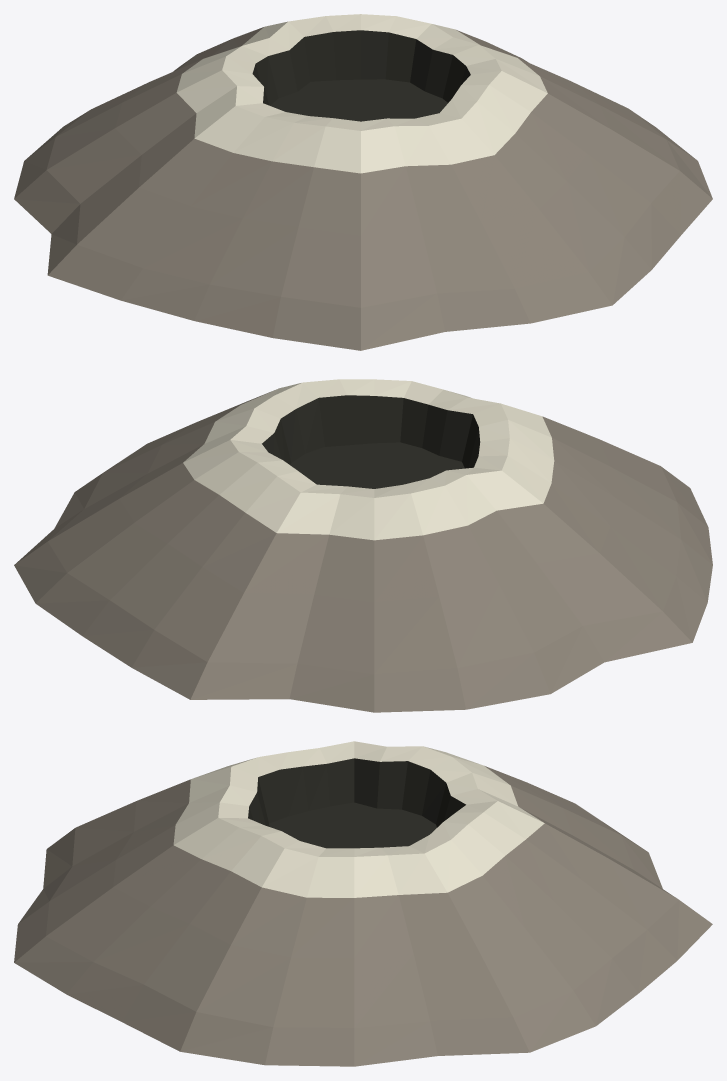
Rendered from HotAirGeyserCollision.fbx.
3 views of the same model, one above another, from view 1: azimuth 30°, elevation 25°; view 2: azimuth 150°, elevation 25°; view 3: azimuth 270°, elevation 25° (orthographic). The views are drawn at different scales.
Parts seen in each view (by area): view 1: HotAirGeyserCollision; view 2: HotAirGeyserCollision; view 3: HotAirGeyserCollision.
Part boxes in pixels (<box>): HotAirGeyserCollision: <box>14,14,712,350</box>; HotAirGeyserCollision: <box>14,379,712,712</box>; HotAirGeyserCollision: <box>14,741,712,1066</box>.
Size of the model in its own units: 986 by 200 by 992.
